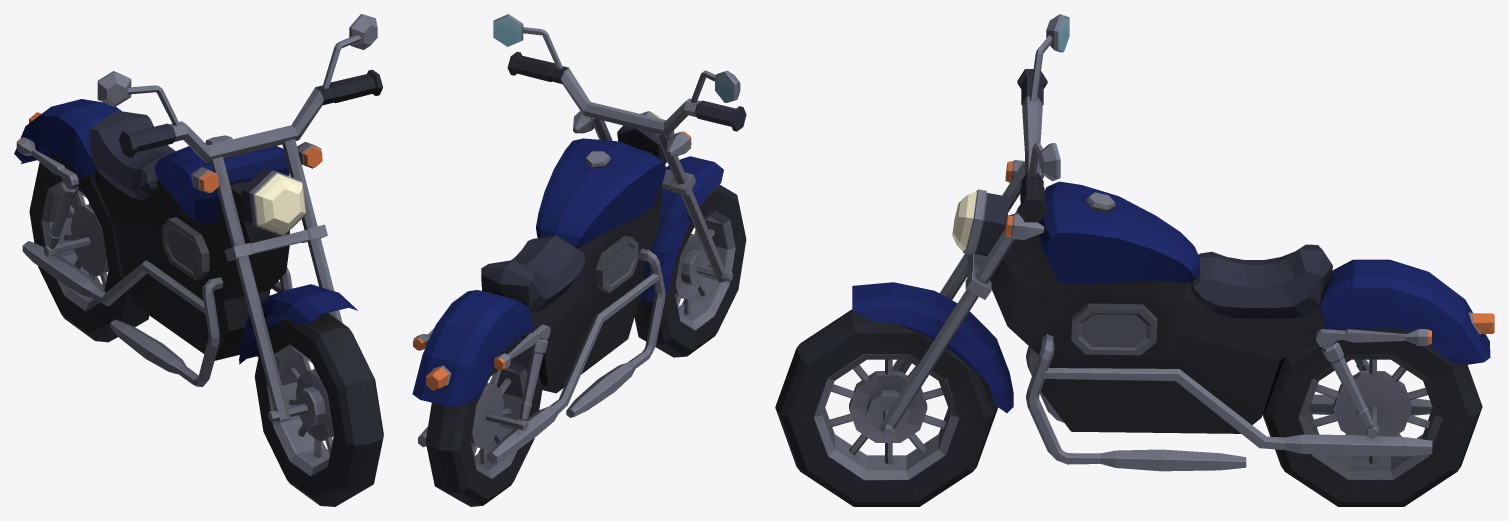
Rendered from motorcycle.glb.
3 views of the same model, side by side, from view 1: azimuth 30°, elevation 25°; view 2: azimuth 150°, elevation 25°; view 3: azimuth 270°, elevation 25° (orthographic). The views are drawn at different scales.
Visible parts, largest first — view 1: Motorcycle_mesh; view 2: Motorcycle_mesh; view 3: Motorcycle_mesh.
Boxes of the visible parts, x1,y1,x2,y2 form: Motorcycle_mesh: (14, 14, 383, 506); Motorcycle_mesh: (412, 14, 746, 506); Motorcycle_mesh: (775, 14, 1494, 506).
Bounding box in the file's own units: 0.9923 × 1.37 × 2.1.
1 material, 1 textured.
